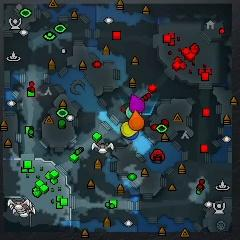p1: (125, 131, 139, 140)
p2: (125, 107, 133, 117)
p3: (129, 94, 145, 113)
p4: (121, 121, 138, 137)
p5: (129, 111, 145, 131)
